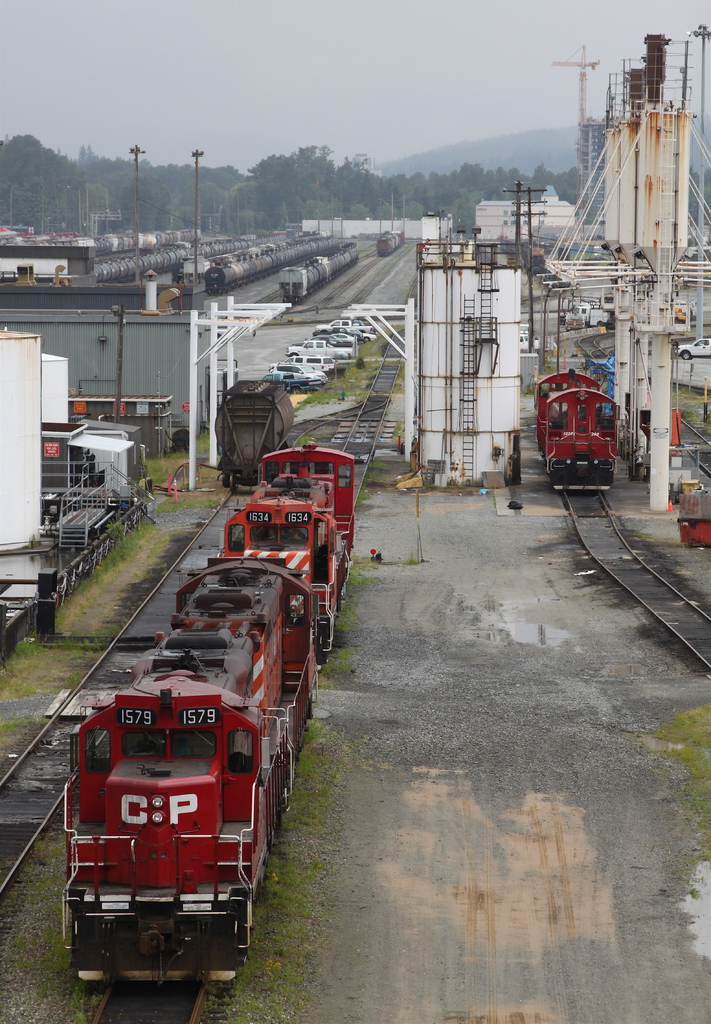train: (62, 431, 363, 995), (539, 371, 617, 496)
